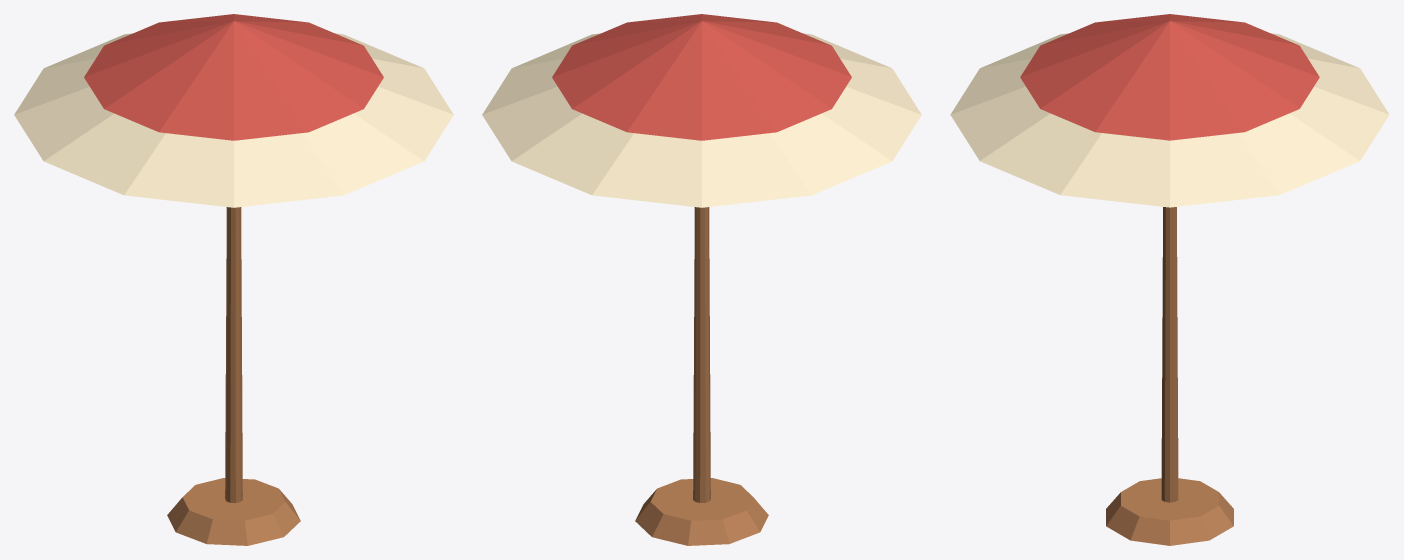
The model's file is turning-seasons-striped-parasol-ee3d2500__2122.glb.
3 renders of one model, left to right at view 1: azimuth 30°, elevation 25°; view 2: azimuth 150°, elevation 25°; view 3: azimuth 270°, elevation 25°, orthographic.
Parts seen in each view (by area): view 1: striped-parasol; view 2: striped-parasol; view 3: striped-parasol.
Part boxes in pixels (x1,y1,x2,y2): striped-parasol: (14,14,453,545); striped-parasol: (482,14,921,545); striped-parasol: (950,14,1389,545).
Size of the model in its own units: 1.7 by 2.12 by 1.7.
